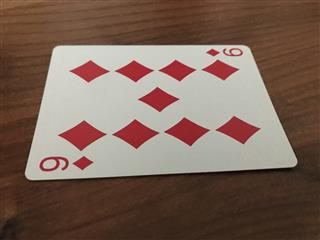NineOfDiamonds: (23, 43, 297, 182)
